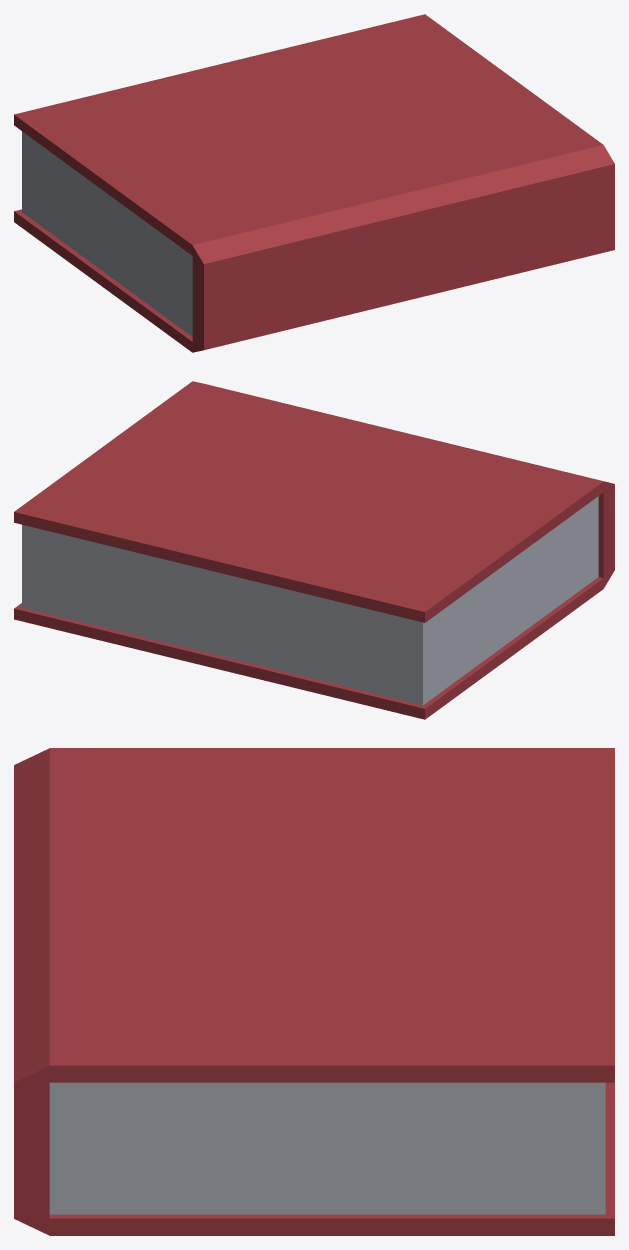
The model's file is special_book.fbx.
3 views of the same model, one above another, from view 1: azimuth 30°, elevation 25°; view 2: azimuth 150°, elevation 25°; view 3: azimuth 270°, elevation 25° (orthographic). The views are drawn at different scales.
Parts seen in each view (by area): view 1: Cube.001, Cube; view 2: Cube.001, Cube; view 3: Cube.001, Cube.
Part boxes in pixels (x1=…): Cube.001: x1=14, y1=14, x2=603, y2=255; Cube: x1=14, y1=131, x2=614, y2=352; Cube.001: x1=14, y1=381, x2=603, y2=622; Cube: x1=14, y1=382, x2=614, y2=719; Cube.001: x1=49, y1=748, x2=614, y2=1082; Cube: x1=14, y1=748, x2=614, y2=1235.
Size of the model in its own units: 200 by 50 by 160.
